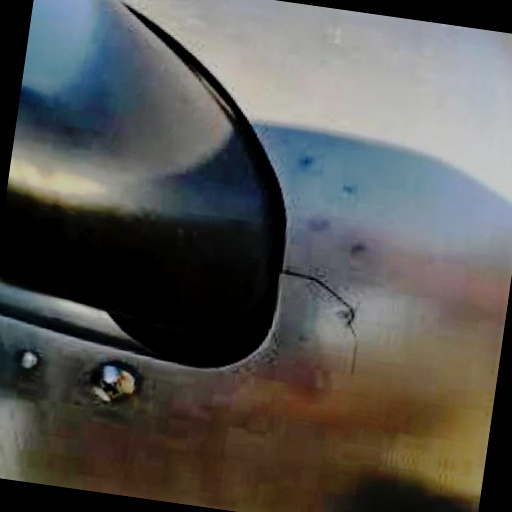crack: (271, 260, 375, 373)
